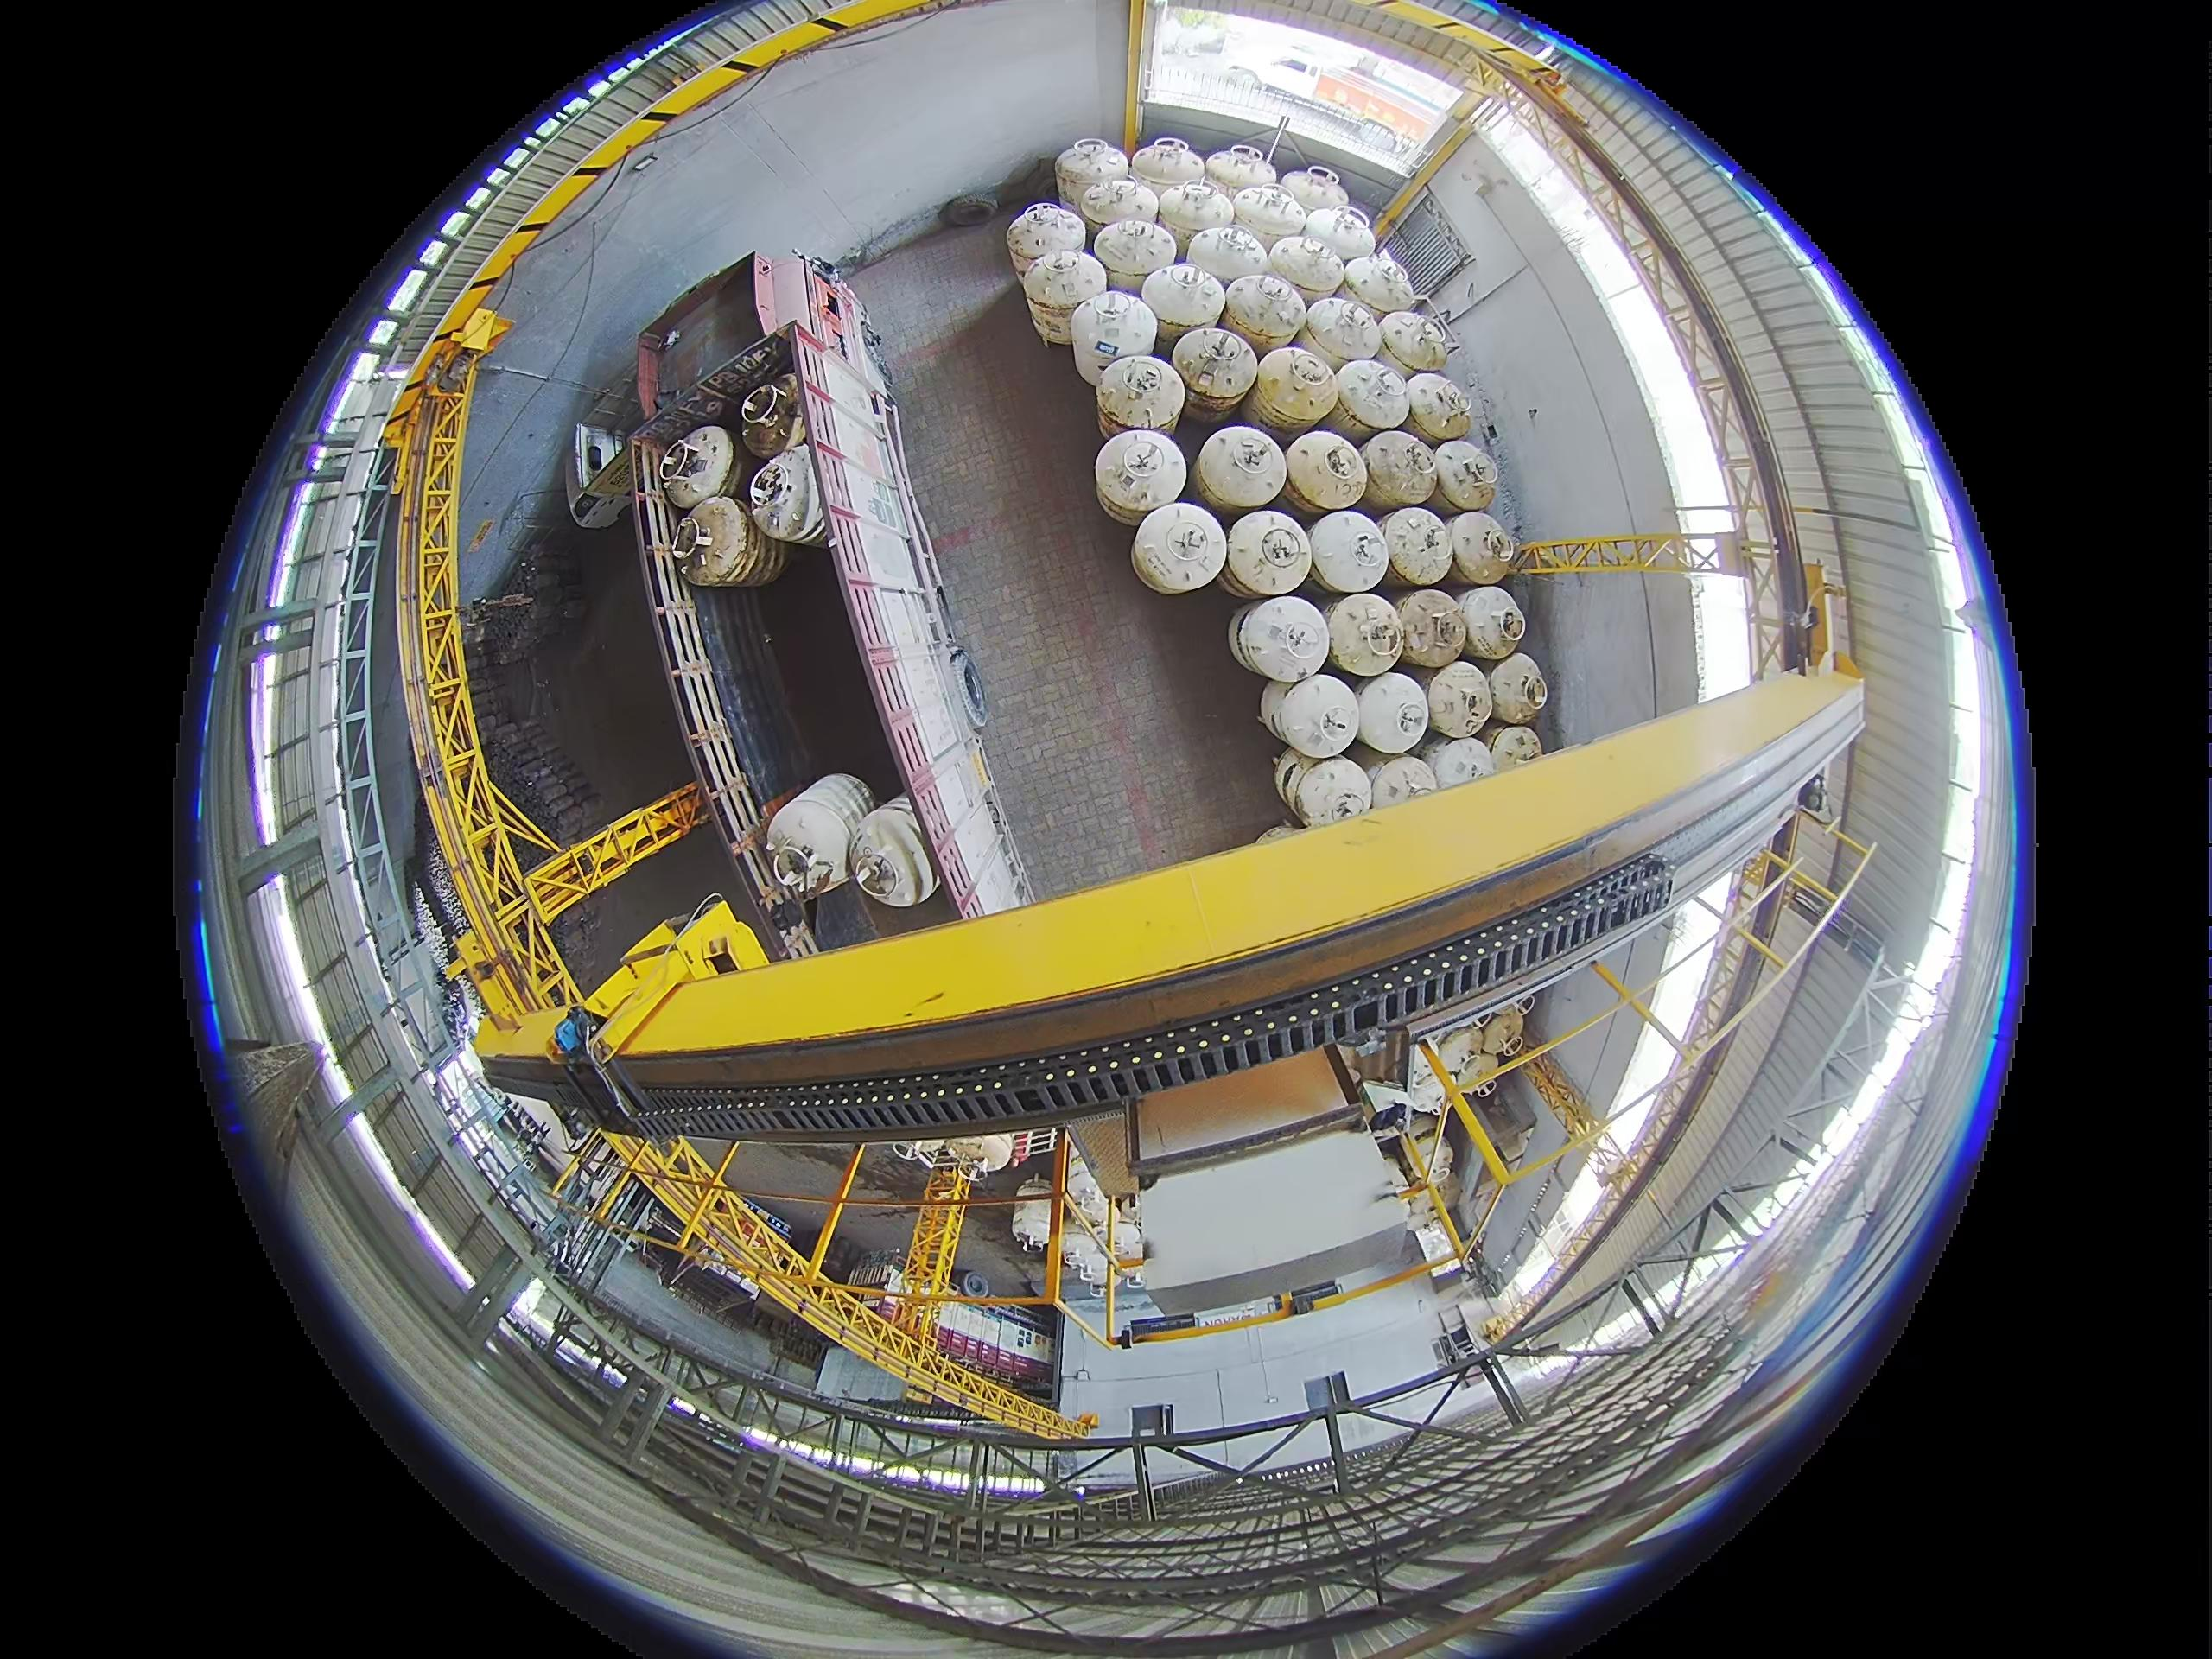cylinder: (765, 774, 876, 903), (1104, 347, 1205, 455), (672, 497, 792, 587), (1106, 420, 1195, 526), (1132, 502, 1228, 594), (749, 444, 833, 547), (1233, 594, 1329, 683), (1195, 423, 1287, 514), (1071, 291, 1160, 385), (1252, 347, 1343, 437), (1170, 326, 1259, 418), (1273, 671, 1366, 760), (1224, 511, 1313, 598), (1284, 430, 1369, 518), (1306, 509, 1392, 594), (1221, 272, 1308, 354), (1278, 753, 1372, 828), (1141, 260, 1224, 343), (1324, 592, 1407, 676), (1015, 249, 1096, 336), (660, 425, 738, 509), (1362, 429, 1440, 511), (1353, 671, 1430, 753), (1332, 357, 1411, 436), (1393, 589, 1470, 667), (1303, 295, 1383, 369), (1381, 507, 1456, 586), (1426, 660, 1500, 741), (1188, 221, 1273, 289), (1157, 179, 1235, 253), (1456, 586, 1529, 660), (1096, 216, 1174, 286), (1082, 176, 1160, 244), (1007, 199, 1087, 265), (740, 376, 806, 457), (1449, 511, 1519, 584), (1400, 371, 1470, 443), (1266, 232, 1341, 298), (1129, 138, 1205, 202), (1231, 185, 1310, 247), (1055, 139, 1127, 207), (1432, 439, 1500, 511), (1301, 206, 1378, 268), (1378, 310, 1447, 378), (1480, 652, 1547, 723), (1341, 253, 1416, 315), (1367, 755, 1442, 812), (1205, 143, 1278, 199), (1425, 737, 1498, 791), (1278, 166, 1350, 218), (1433, 1025, 1486, 1084), (1258, 676, 1305, 741), (1484, 723, 1545, 772), (1271, 748, 1315, 809), (1477, 1007, 1526, 1060), (1797, 777, 1841, 829), (1252, 821, 1306, 843)
truck: (592, 254, 1038, 945), (397, 333, 705, 1032), (855, 1276, 1061, 1401)
